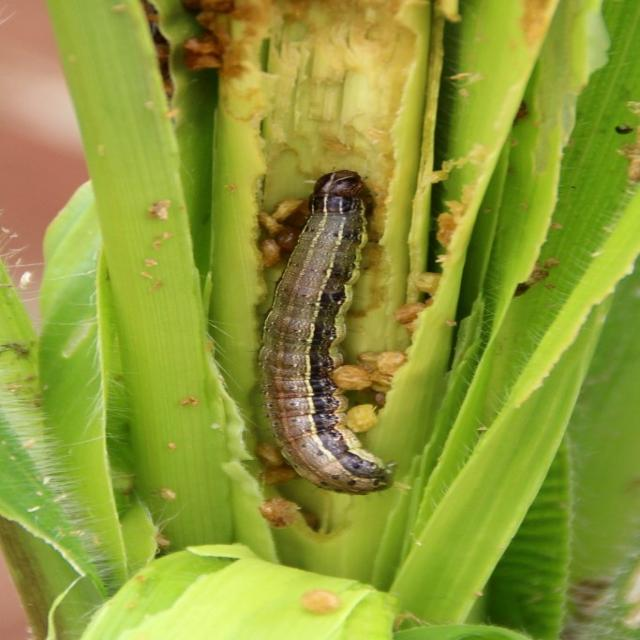armyworm: (227, 161, 453, 508)
